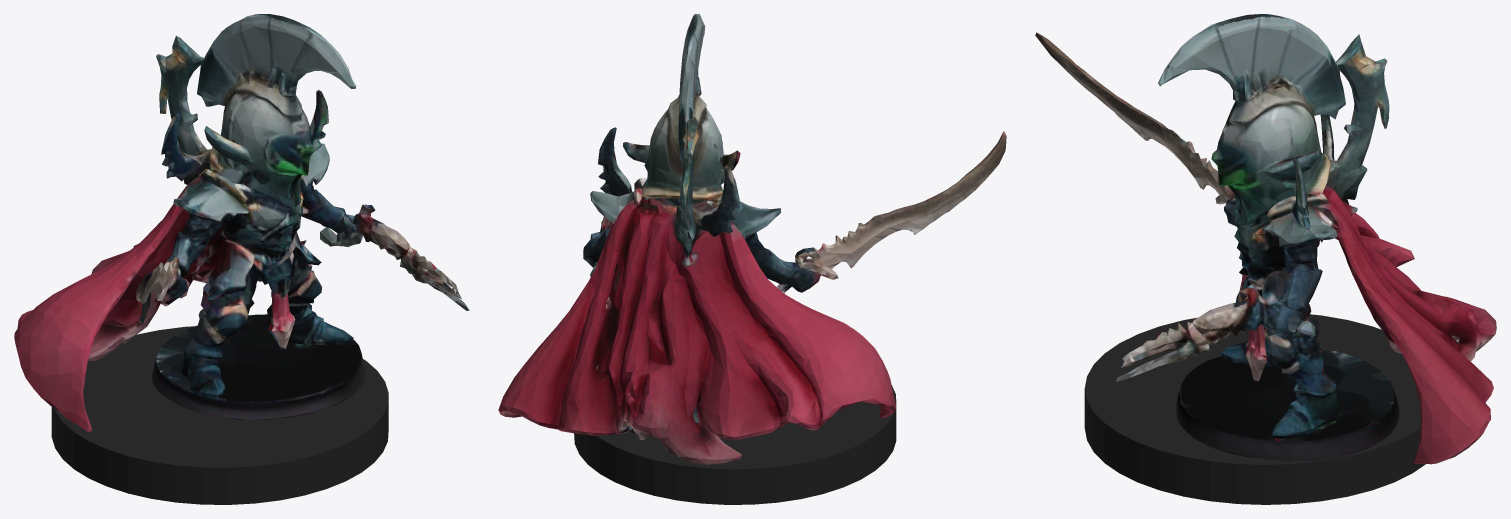
File: archon.glb
The picture shows the model from 3 angles, left to right: view 1: azimuth 30°, elevation 25°; view 2: azimuth 150°, elevation 25°; view 3: azimuth 270°, elevation 25°; orthographic projection. The views are drawn at different scales.
Parts seen in each view (by area): view 1: figure, base; view 2: figure, base; view 3: figure, base.
Part boxes in pixels (left/top/right/bottom): figure: left=14, top=14, right=469, bottom=432; base: left=51, top=326, right=388, bottom=504; figure: left=498, top=14, right=1006, bottom=464; base: left=574, top=385, right=896, bottom=504; figure: left=1035, top=14, right=1496, bottom=464; base: left=1084, top=314, right=1425, bottom=504.
Bounding box in the file's own units: 1.21 × 1.32 × 1.25.
Materials: 2 (1 with a texture image).
